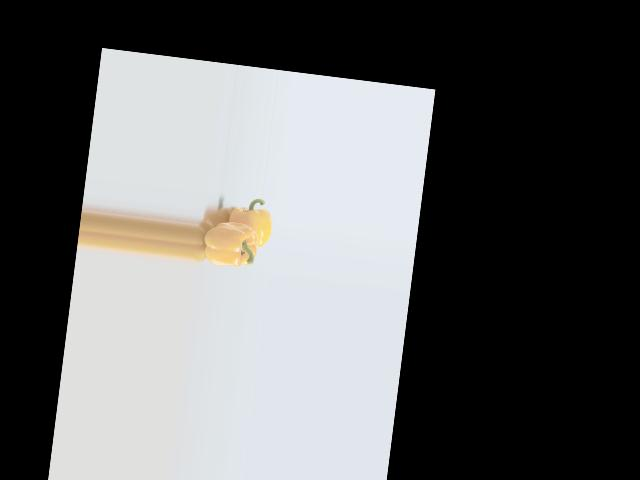bell_pepper: (218, 195, 275, 250)
